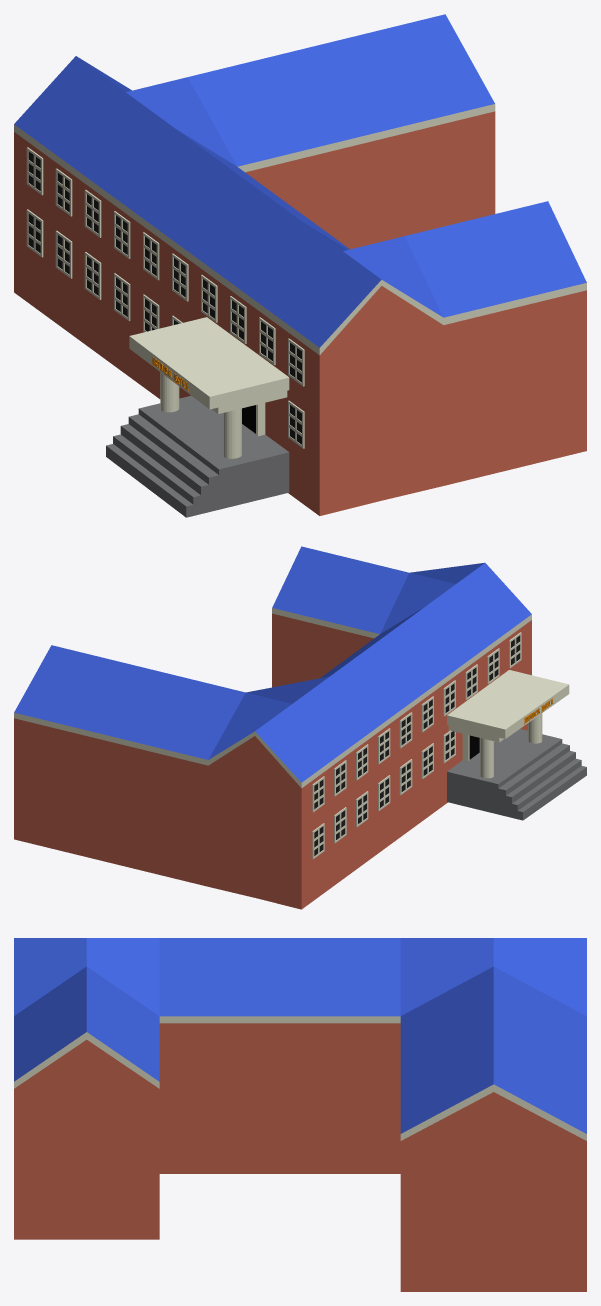
The model's file is Bauer Hall.fbx.
The picture shows the model from 3 angles, top to bottom: view 1: azimuth 30°, elevation 25°; view 2: azimuth 150°, elevation 25°; view 3: azimuth 270°, elevation 25°; orthographic projection. The views are drawn at different scales.
Parts seen in each view (by area): view 1: Bauer; view 2: Bauer; view 3: Bauer.
Boxes of the visible parts, bbox=[...] form: Bauer: bbox=[14, 14, 586, 517]; Bauer: bbox=[14, 546, 586, 909]; Bauer: bbox=[14, 938, 586, 1291].
Bounding box in the file's own units: 245 × 107 × 267.
